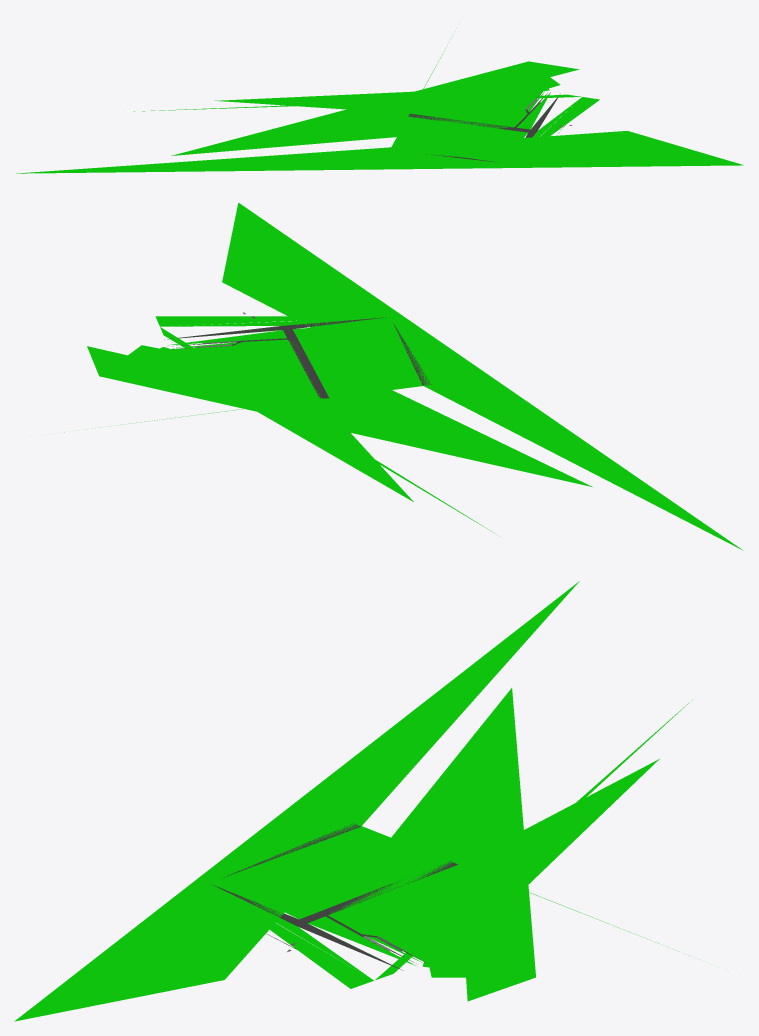
3 renders of one model, top to bottom at view 1: azimuth 30°, elevation 25°; view 2: azimuth 150°, elevation 25°; view 3: azimuth 270°, elevation 25°, orthographic. The views are drawn at different scales.
Size of the model in its own units: 300 by 0.3 by 210.
